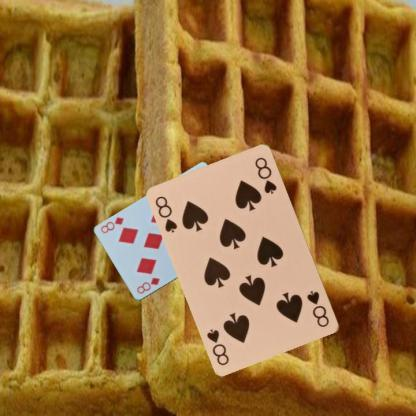8d: (134, 275, 161, 295)
8s: (304, 288, 332, 329), (152, 193, 180, 234)
